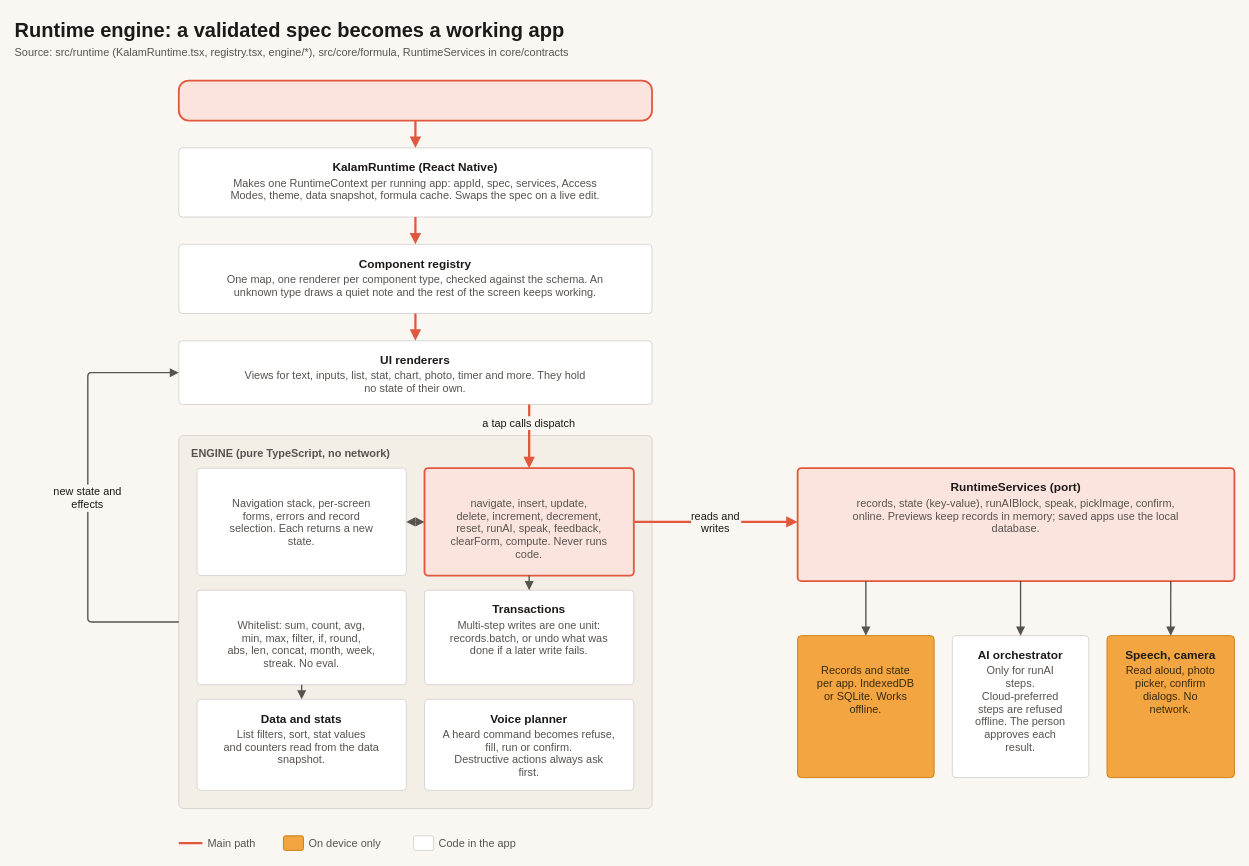
The diagram is 1249 pixels wide and 866 high, and some of its shapes have lost their labels. Here are the shapes that lost their labels. From the top down, the box of each, then its label:
(177, 79, 652, 121): Validated KalamSpec (shelf, template, compiler, import)
(196, 467, 406, 576): State reducers
(423, 467, 634, 576): Action dispatcher
(196, 589, 406, 685): Formula evaluator
(797, 635, 934, 778): Local database
